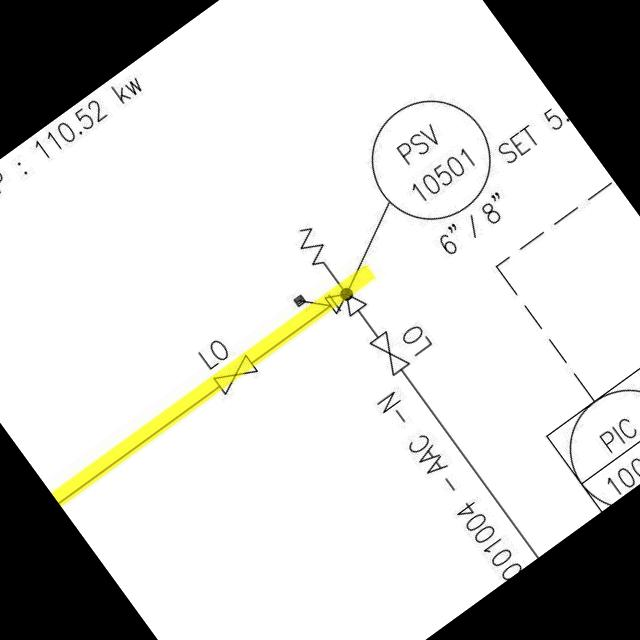GV: (204, 344, 265, 402), (363, 326, 415, 382)
RPV: (270, 211, 382, 338)
